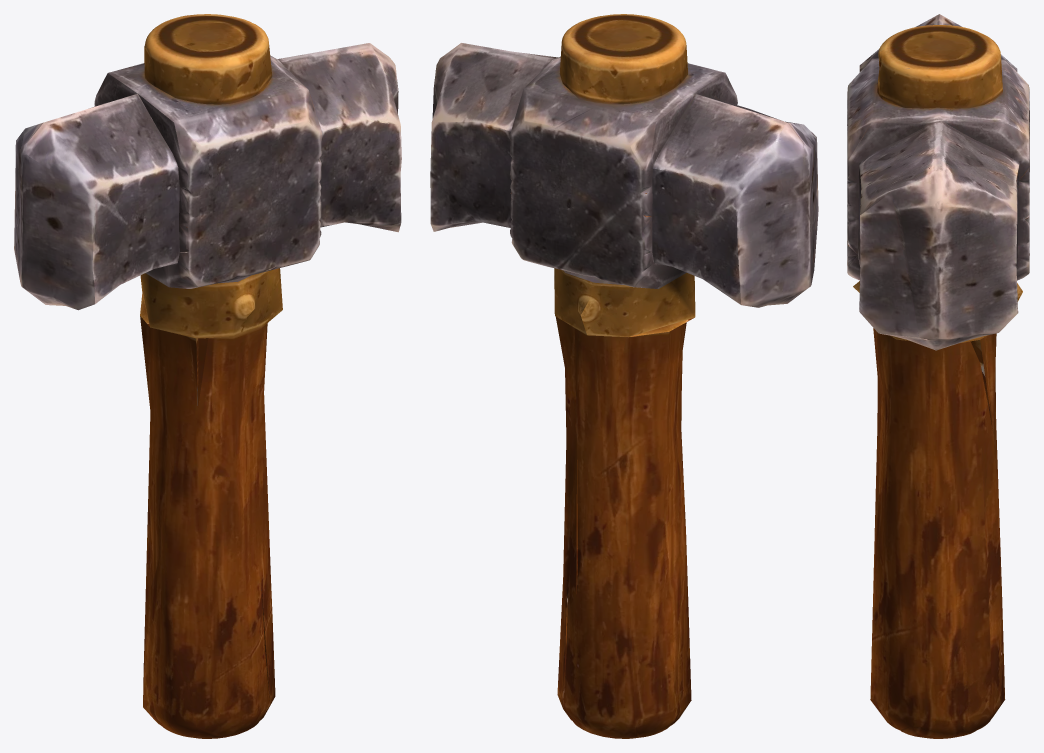
Rendered from hammer.glb.
The picture shows the model from 3 angles, left to right: view 1: azimuth 30°, elevation 25°; view 2: azimuth 150°, elevation 25°; view 3: azimuth 270°, elevation 25°; orthographic projection.
Parts seen in each view (by area): view 1: Mesh_0; view 2: Mesh_0; view 3: Mesh_0.
Boxes of the visible parts, x1,y1,x2,y2 form: Mesh_0: [14, 14, 401, 738]; Mesh_0: [430, 14, 818, 738]; Mesh_0: [847, 14, 1029, 738].
Bounding box in the file's own units: 1.08 × 1.9 × 0.4665.
Materials: 1 (1 with a texture image).
